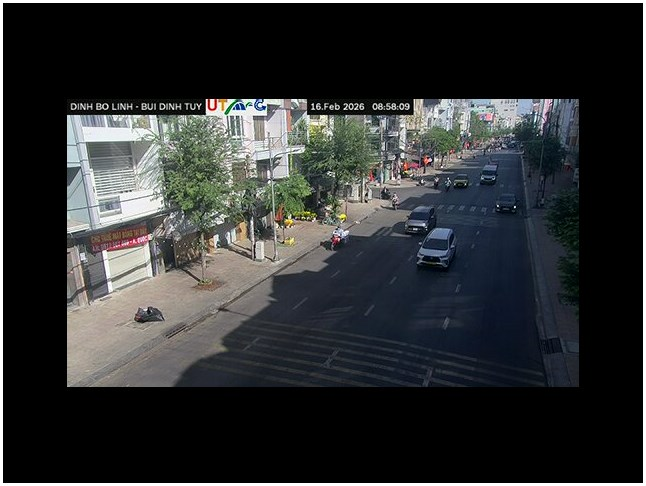car: (415, 227, 457, 271), (405, 205, 437, 234), (134, 306, 165, 323), (494, 193, 518, 214), (404, 220, 429, 235), (479, 165, 497, 185), (452, 174, 469, 189)
motorbike: (328, 229, 346, 251)
